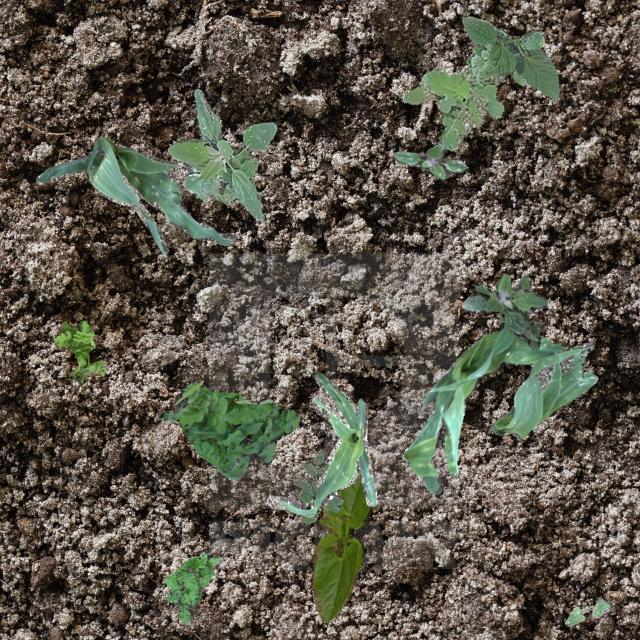crop: (402, 321, 562, 494), (36, 136, 236, 254), (266, 370, 376, 516), (167, 88, 276, 220), (312, 452, 374, 620), (491, 342, 596, 438), (460, 15, 558, 100), (564, 598, 610, 626)
weed: (404, 29, 544, 149), (156, 379, 298, 478), (460, 272, 546, 350), (165, 550, 218, 626), (294, 448, 342, 522), (52, 320, 106, 384), (392, 142, 467, 178)
